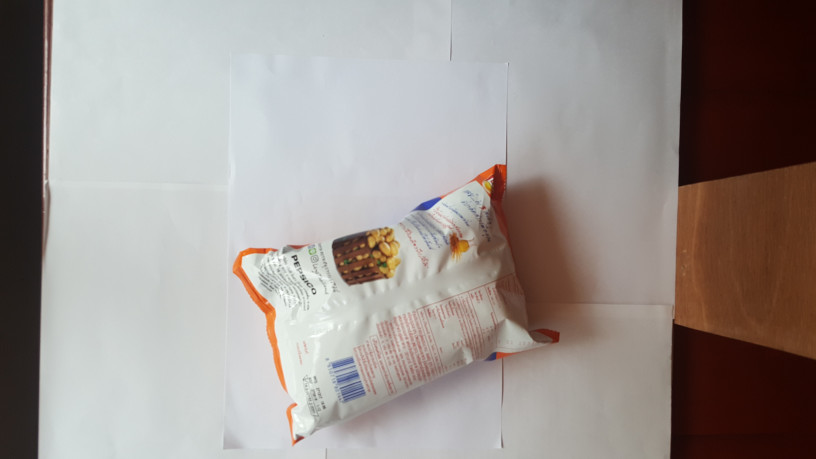lays-bbq: (236, 153, 565, 446)
